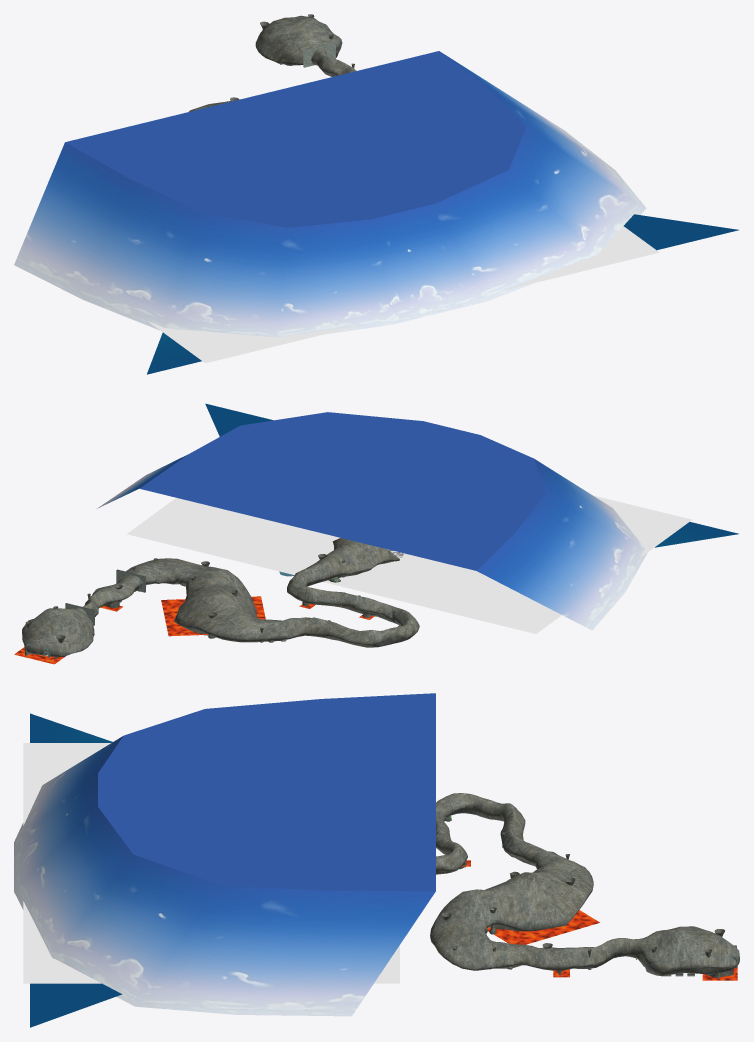
Rendered from cave_end.glb.
3 views of the same model, one above another, from view 1: azimuth 30°, elevation 25°; view 2: azimuth 150°, elevation 25°; view 3: azimuth 270°, elevation 25° (orthographic). The views are drawn at different scales.
Visible parts, largest first — view 1: cavebackground, topwateroutside, portal7, cavewateroutside; view 2: cavebackground, topwateroutside, portal5, portal7, portal1, cavewateroutside, portal6, portal4, portal3, portal2, cavebigroomlava, cavelava; view 3: cavebackground, portal5, portal7, topwateroutside, cavewateroutside, portal6, portal4, cavebigroomlava, portal2.
Boxes of the visible parts, bbox=[...] form: cavebackground: bbox=[14, 51, 646, 337]; topwateroutside: bbox=[148, 226, 659, 363]; portal7: bbox=[255, 14, 356, 76]; cavewateroutside: bbox=[147, 214, 738, 374]; cavebackground: bbox=[97, 412, 647, 630]; topwateroutside: bbox=[127, 495, 691, 633]; portal5: bbox=[174, 567, 359, 645]; portal7: bbox=[22, 576, 139, 659]; portal1: bbox=[303, 538, 399, 585]; cavewateroutside: bbox=[205, 403, 738, 576]; portal6: bbox=[116, 558, 213, 592]; portal4: bbox=[357, 607, 419, 647]; portal3: bbox=[331, 591, 395, 622]; portal2: bbox=[287, 570, 334, 606]; cavebigroomlava: bbox=[161, 596, 265, 636]; cavelava: bbox=[14, 604, 374, 664]; cavebackground: bbox=[14, 693, 435, 1016]; portal5: bbox=[436, 810, 593, 934]; portal7: bbox=[512, 926, 739, 978]; topwateroutside: bbox=[23, 743, 399, 983]; cavewateroutside: bbox=[30, 713, 122, 1027]; portal6: bbox=[430, 910, 515, 970]; portal4: bbox=[436, 793, 524, 821]; cavebigroomlava: bbox=[487, 910, 599, 944]; portal2: bbox=[436, 837, 467, 874].
Size of the model in its own units: 313 by 46.53 by 306.
37 materials, 32 textured.
